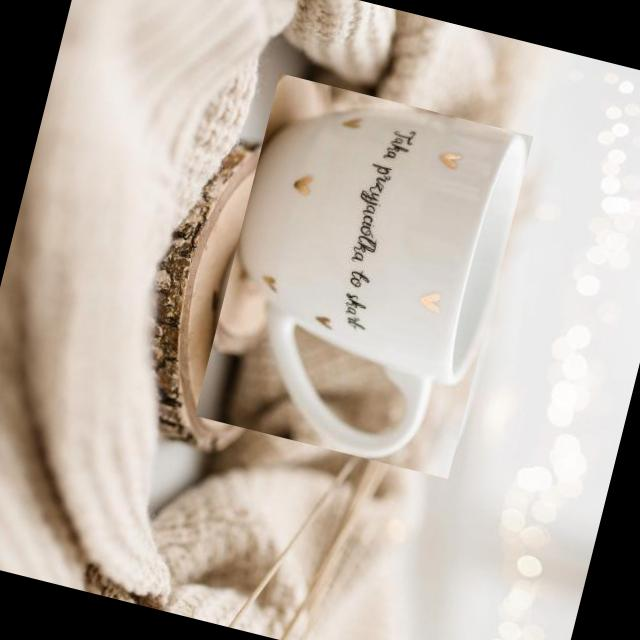Coffee Mug: (194, 77, 527, 477)
